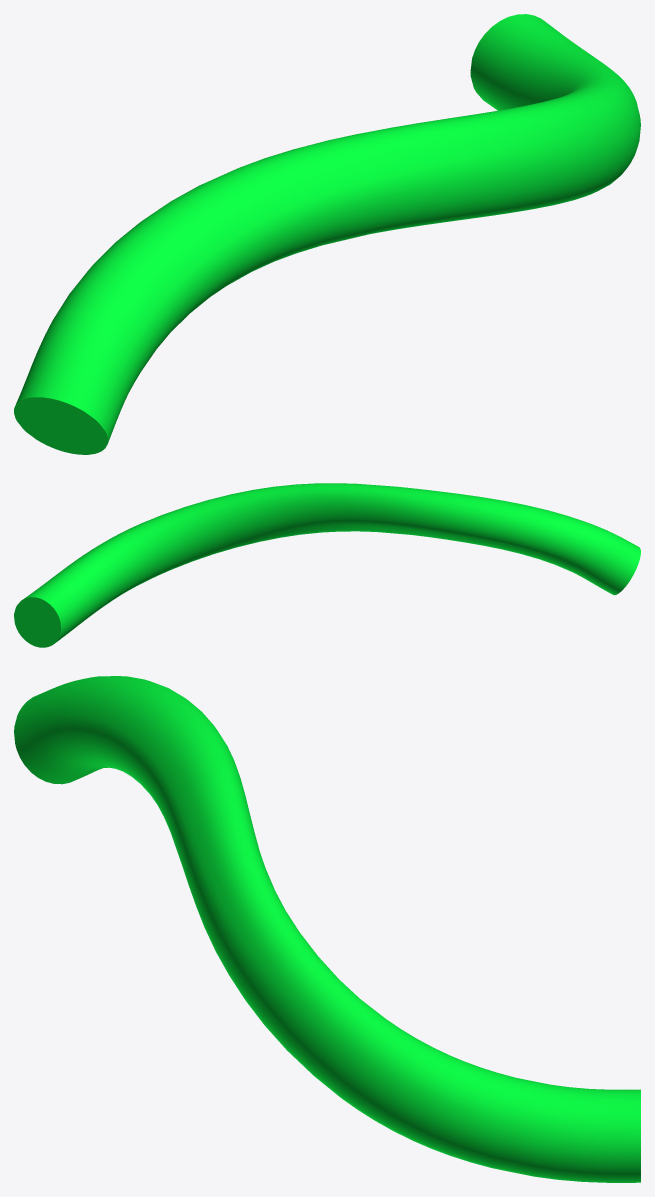
The model's file is pipe.fbx.
The picture shows the model from 3 angles, top to bottom: view 1: azimuth 30°, elevation 25°; view 2: azimuth 150°, elevation 25°; view 3: azimuth 270°, elevation 25°; orthographic projection. The views are drawn at different scales.
Parts seen in each view (by area): view 1: Object001; view 2: Object001; view 3: Object001.
Boxes of the visible parts, x1,y1,x2,y2 form: Object001: [14, 14, 640, 454]; Object001: [14, 483, 640, 647]; Object001: [14, 676, 640, 1182].
Bounding box in the file's own units: 10.08 × 2.65 × 6.97.
